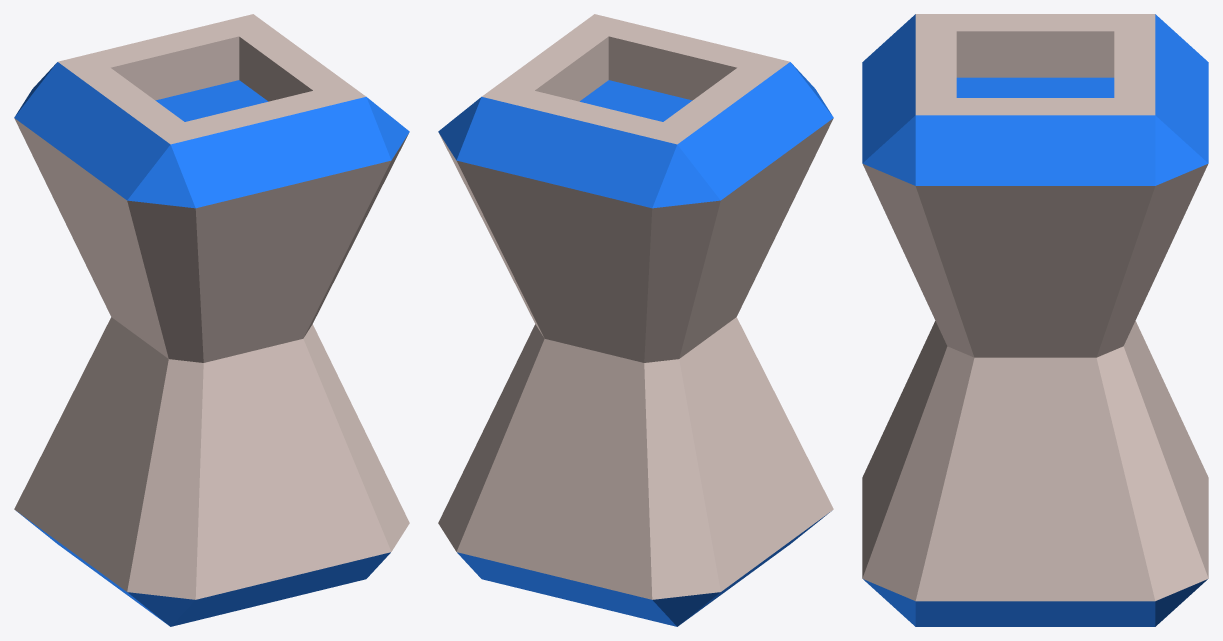
The model's file is Decoration 1.fbx.
The picture shows the model from 3 angles, left to right: view 1: azimuth 30°, elevation 25°; view 2: azimuth 150°, elevation 25°; view 3: azimuth 270°, elevation 25°; orthographic projection. The views are drawn at different scales.
Parts seen in each view (by area): view 1: Decoration 1; view 2: Decoration 1; view 3: Decoration 1.
Boxes of the visible parts, bbox=[...] form: Decoration 1: bbox=[14, 14, 409, 626]; Decoration 1: bbox=[438, 14, 833, 626]; Decoration 1: bbox=[862, 14, 1208, 626].
Size of the model in its own units: 87.76 by 143 by 87.76.
